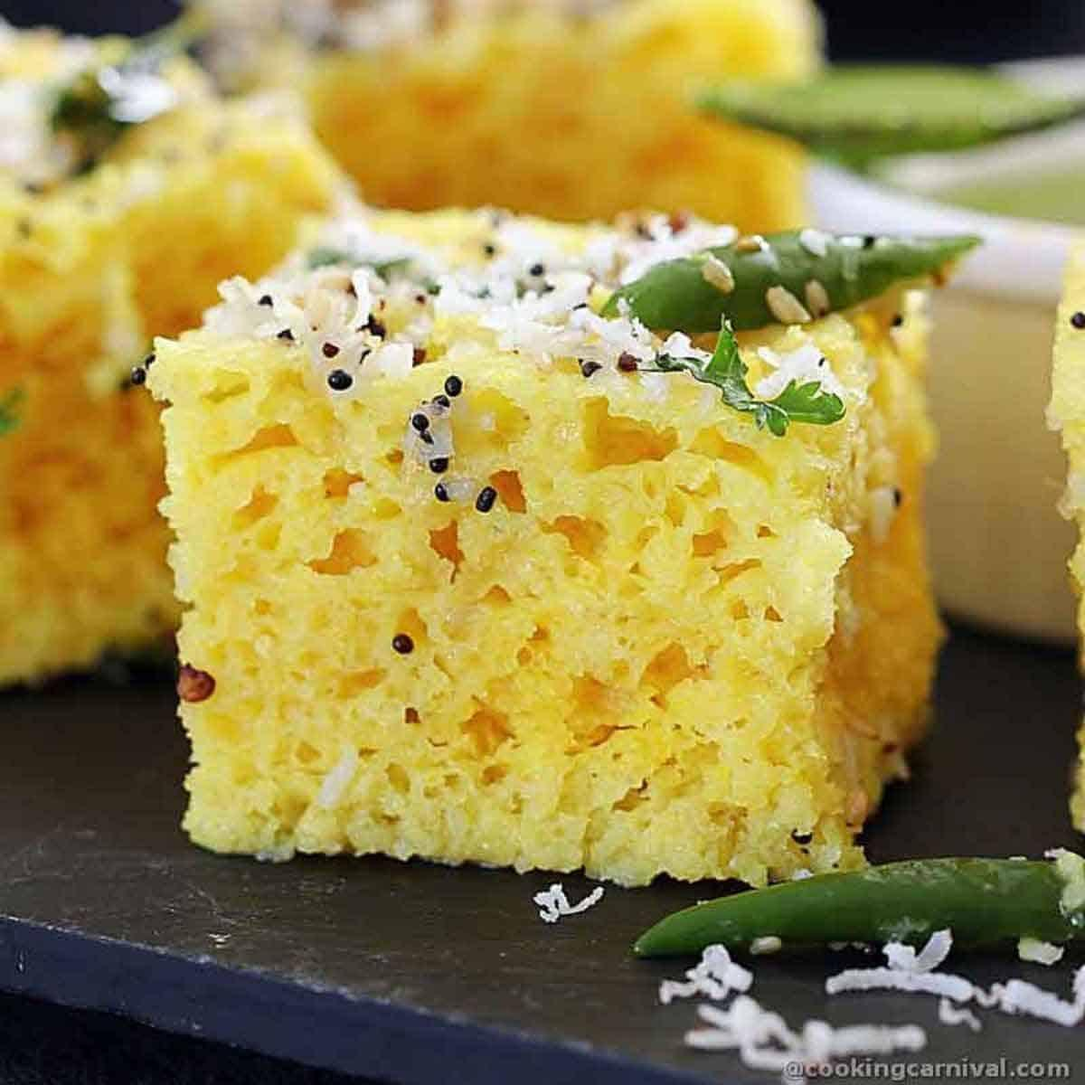dhokla: (0, 0, 910, 854)
